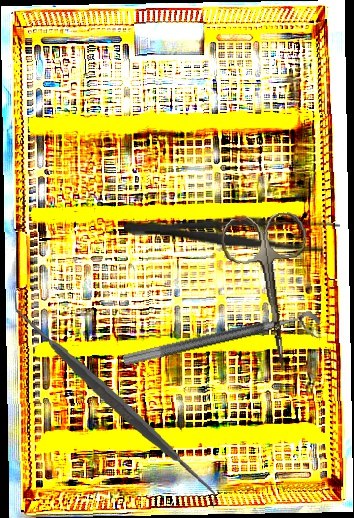Dressing Forceps: (123, 210, 341, 255)
Fixation Ring: (122, 308, 324, 383)
Iris Scissors: (218, 210, 324, 376)
Spatula Surgical: (3, 291, 226, 509)
